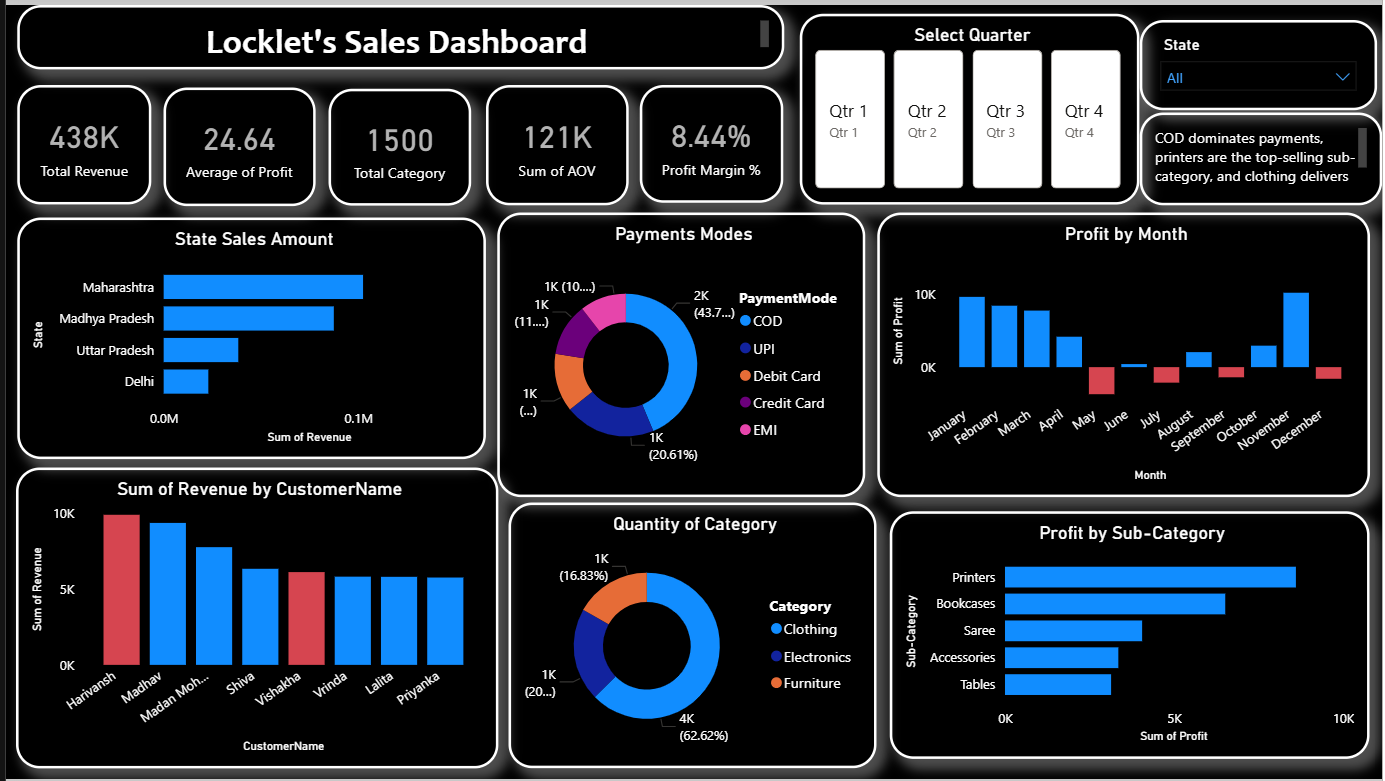

This screenshot's page, from the dashboard's own definition file:
{"tool":"powerbi","page":{"name":"Page 1","canvas":[1280,720],"ordinal":0},"visuals":[{"type":"textbox","box":[10,0,713.8,60],"z":0},{"type":"donutChart","title":"Quantity of Category","fields":{"Category":["Details.Category"],"Y":["Sum(Details.Quantity)"]},"box":[467.5,462.5,342.5,247.5],"z":1000},{"type":"clusteredColumnChart","title":"Profit by Month","fields":{"Y":["Sum(Details.Profit)"],"Category":["Orders.Order Date.Variation.Date Hierarchy.Month"]},"box":[810,192.5,458.8,265],"z":2000},{"type":"barChart","title":"Profit by Sub-Category","fields":{"Category":["Details.Sub-Category"],"Y":["Sum(Details.Profit)"]},"box":[822.5,471.2,446.2,230],"z":3000},{"type":"donutChart","title":"Quantity of Category","fields":{"Y":["Sum(Details.Quantity)"],"Category":["Details.PaymentMode"]},"box":[457.5,192.5,342.5,265],"z":4000},{"type":"card","fields":{"Values":["Sum(Details.Amount)"]},"box":[10,75,125,111.2],"z":5000},{"type":"card","fields":{"Values":["Avg(Details.Profit)"]},"box":[146.2,76.2,141.2,110],"z":6000},{"type":"card","fields":{"Values":["CountNonNull(Details.Category)"]},"box":[300,77.5,132.5,108.8],"z":7000},{"type":"card","fields":{"Values":["Sum(Details.AOV)"]},"box":[446.2,75,128.8,111.2],"z":8000},{"type":"barChart","title":"State Sales Amount","fields":{"Category":["Orders.State"],"Y":["Sum(Details.Amount)"]},"box":[10,197.5,436.2,225],"z":9000},{"type":"columnChart","fields":{"Category":["Orders.CustomerName"],"Y":["Sum(Details.Amount)"]},"box":[8.8,430,448.8,280],"z":10000},{"type":"advancedSlicerVisual","title":"Select Quarter","fields":{"Values":["Orders.Order Date.Variation.Date Hierarchy.Quarter"],"Label":["Min(Orders.Order Date.Variation.Date Hierarchy.Quarter)"]},"box":[738.5,8.4,301.4,177.7],"z":11000},{"type":"slicer","fields":{"Values":["Orders.State"]},"box":[1045.4,51.2,230.2,93],"z":12000},{"type":"card","fields":{"Values":["Details.Profit Margin %"]},"box":[589.6,74.4,133.3,109.3],"z":13000}]}

Visuals, with their boxes in screenshot pixels (x1, y1, x2, y2), scaled from the page's 1280x720 canvas onto the 1385x781 screenshot:
textbox: l=11, t=0, r=783, b=65
"Quantity of Category" donutChart: l=506, t=502, r=876, b=770
"Profit by Month" clusteredColumnChart: l=876, t=209, r=1373, b=496
"Profit by Sub-Category" barChart: l=890, t=511, r=1373, b=761
"Quantity of Category" donutChart: l=495, t=209, r=866, b=496
card - Sum(Details.Amount): l=11, t=81, r=146, b=202
card - Avg(Details.Profit): l=158, t=83, r=311, b=202
card - CountNonNull(Details.Category): l=325, t=84, r=468, b=202
card - Sum(Details.AOV): l=483, t=81, r=622, b=202
"State Sales Amount" barChart: l=11, t=214, r=483, b=458
columnChart - Orders.CustomerName x Sum(Details.Amount): l=10, t=466, r=495, b=770
"Select Quarter" advancedSlicerVisual: l=799, t=9, r=1125, b=202
slicer - Orders.State: l=1131, t=56, r=1380, b=156
card - Details.Profit Margin %: l=638, t=81, r=782, b=199
